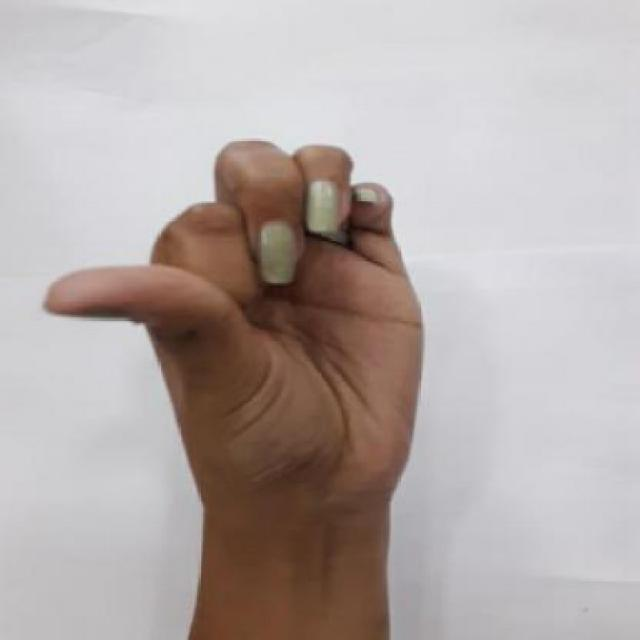without_gloves: (28, 124, 467, 594)
